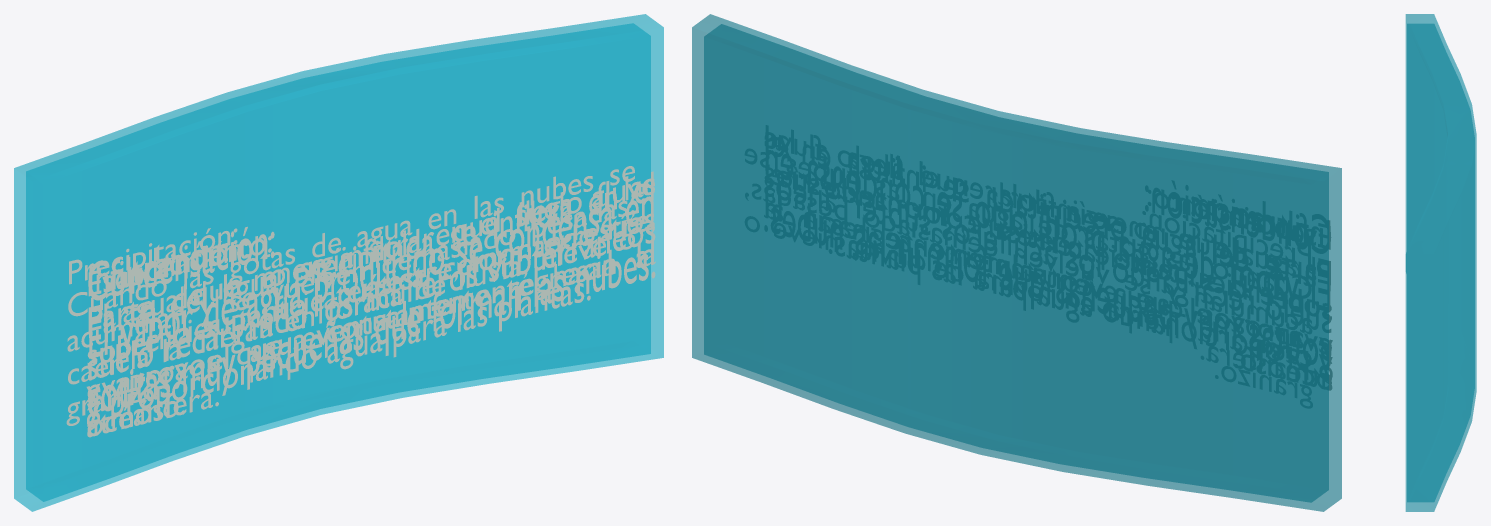
The model's file is Precipitacion.glb.
3 renders of one model, left to right at view 1: azimuth 30°, elevation 25°; view 2: azimuth 150°, elevation 25°; view 3: azimuth 270°, elevation 25°, orthographic. The views are drawn at different scales.
Visible parts, largest first — view 1: Cube, Condensacion, infiltracion, Escurrimiento, Evaporacion, Precipitacion; view 2: Cube, Precipitacion, Condensacion, infiltracion, Escurrimiento, Evaporacion; view 3: Cube.
Boxes of the visible parts, left/top/right/bottom form: Cube: left=14, top=14, right=663, bottom=511; Condensacion: left=87, top=196, right=655, bottom=427; infiltracion: left=87, top=171, right=655, bottom=431; Escurrimiento: left=86, top=178, right=654, bottom=436; Evaporacion: left=87, top=176, right=655, bottom=437; Precipitacion: left=66, top=166, right=634, bottom=425; Cube: left=692, top=14, right=1341, bottom=511; Precipitacion: left=745, top=149, right=1312, bottom=407; Condensacion: left=765, top=150, right=1332, bottom=379; infiltracion: left=766, top=125, right=1332, bottom=384; Escurrimiento: left=765, top=134, right=1332, bottom=387; Evaporacion: left=765, top=130, right=1331, bottom=390; Cube: left=1405, top=14, right=1476, bottom=511.
Bounding box in the file's own units: 2 × 1 × 0.3736.
